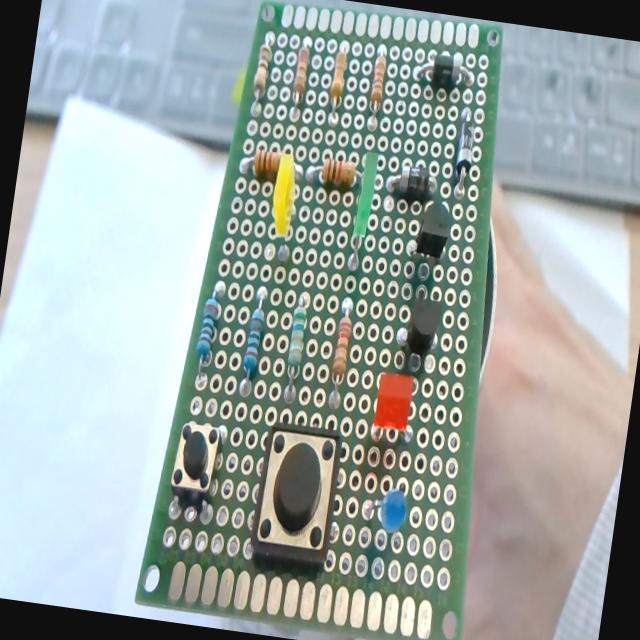diode: (404, 46, 482, 95), (444, 105, 483, 202), (383, 163, 442, 202)
led: (358, 363, 428, 452), (262, 148, 309, 264), (343, 146, 383, 272), (352, 471, 418, 546)
resistor: (274, 284, 318, 412), (188, 274, 232, 398), (322, 294, 359, 417), (234, 282, 270, 402), (280, 34, 321, 131), (318, 35, 357, 130), (360, 38, 396, 138), (304, 146, 366, 199), (246, 30, 278, 119), (232, 140, 283, 184)
switch: (236, 408, 351, 580), (165, 414, 228, 513)
transistor: (389, 290, 451, 363), (404, 198, 458, 280)
